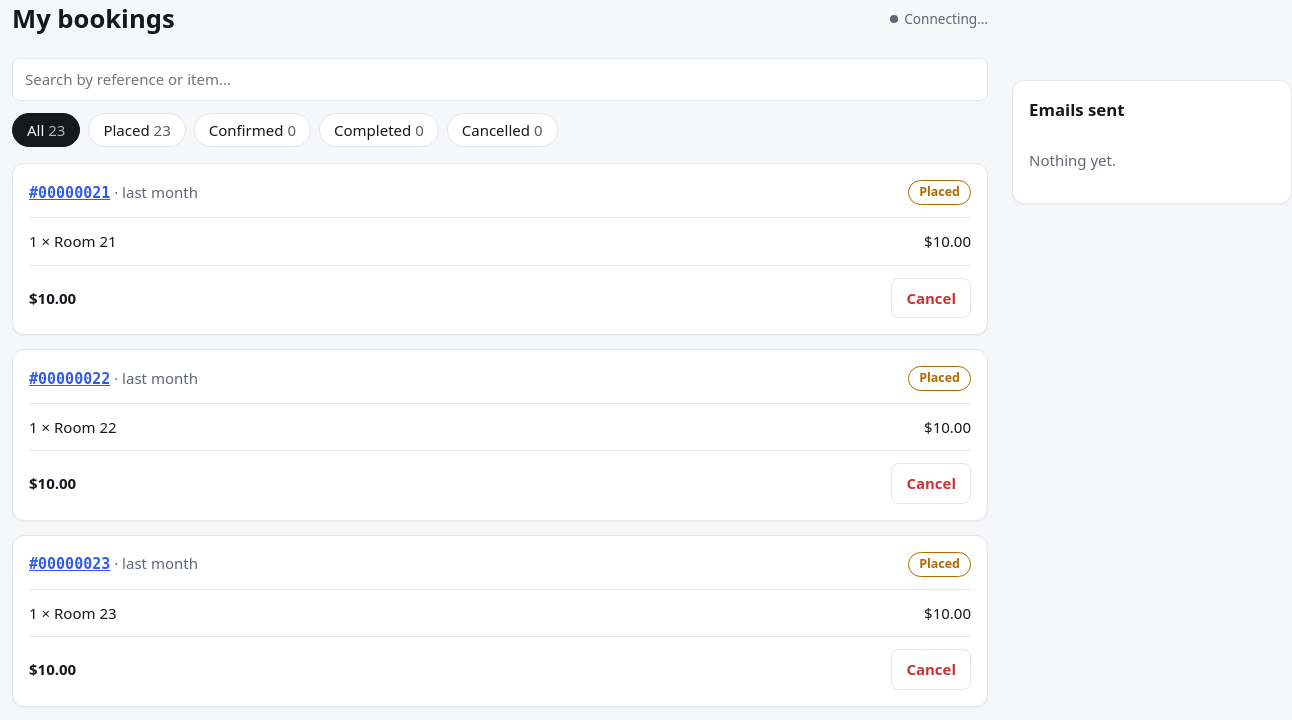
Test case: Orders filters, search and pagination › goes back to the first page when the search or filter changes
Check: the text "Room 21" is shown, box top-left (54, 231), bottom-right (117, 251)
Type "room" into the search field. click: (500, 80)
box: top-left (12, 58), bottom-right (988, 101)
(page scrolled)
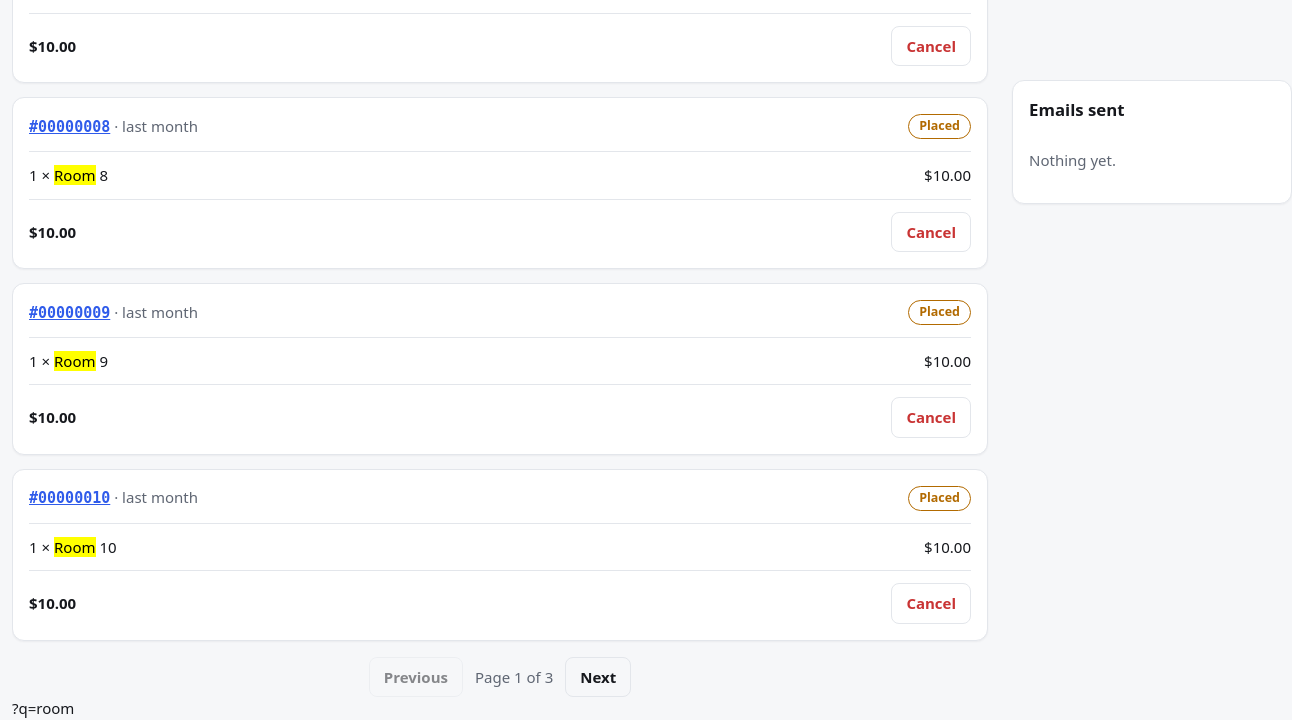
Check: the text with test id "search" reads "?q=room", box top-left (12, 698), bottom-right (74, 718)
Check: the navigation bar named "Bookings pages" shows "Page 1 of 3", box top-left (369, 657), bottom-right (631, 697)
Click the button "Next". click: (598, 677)
box: top-left (565, 657), bottom-right (631, 697)
(page scrolled)
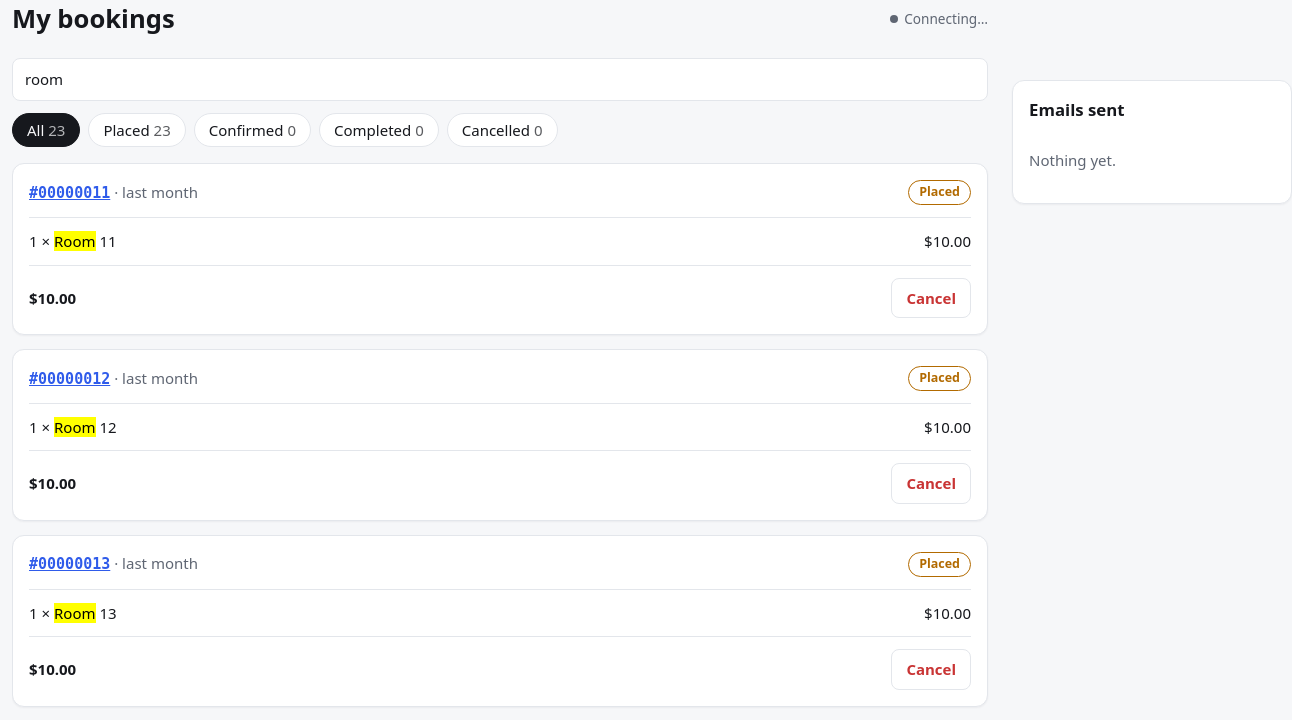
Click the button "Placed 23". click: (137, 130)
box: top-left (88, 113), bottom-right (186, 147)
(page scrolled)
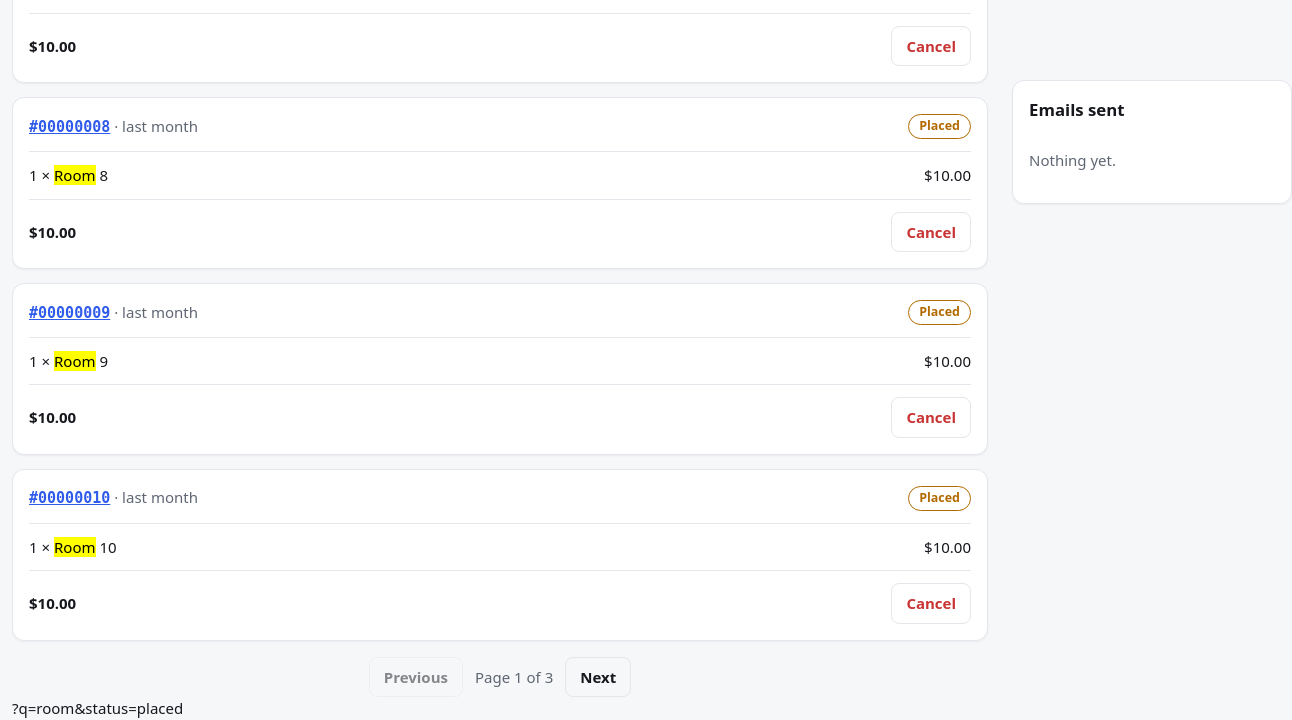
Check: the text with test id "search" reads "?q=room&status=placed", box top-left (12, 698), bottom-right (183, 718)
